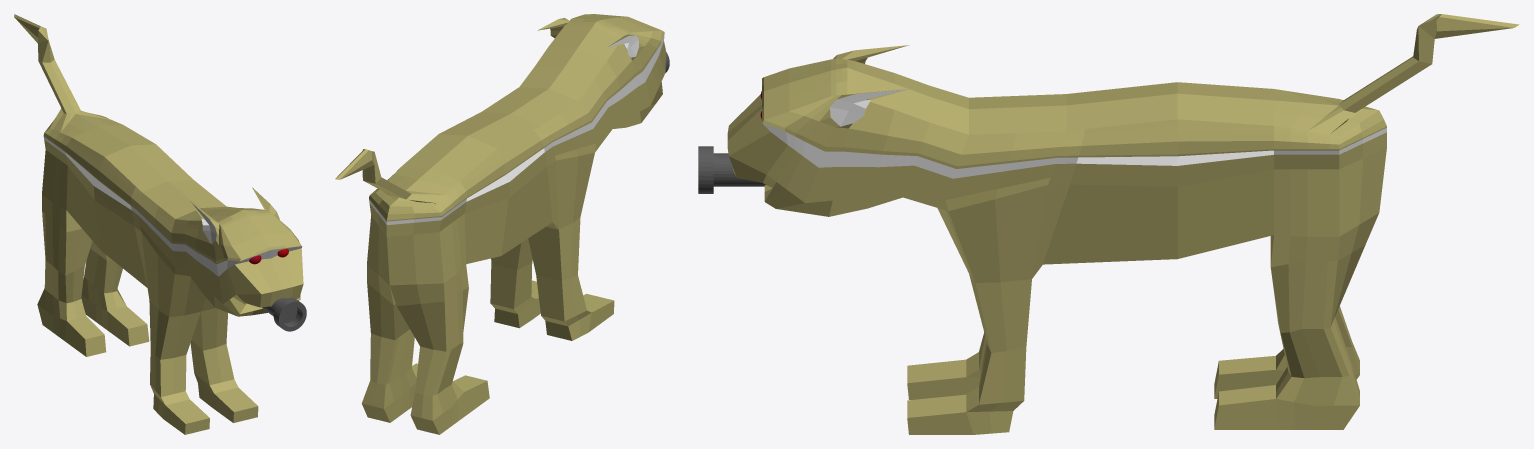
The model's file is Range Monkey.fbx.
3 views of the same model, side by side, from view 1: azimuth 30°, elevation 25°; view 2: azimuth 150°, elevation 25°; view 3: azimuth 270°, elevation 25° (orthographic). The views are drawn at different scales.
Parts seen in each view (by area): view 1: Cube, Circle; view 2: Cube; view 3: Cube, Circle.
Part boxes in pixels (bbox=[...]): Cube: bbox=[14, 14, 303, 434]; Circle: bbox=[262, 297, 306, 331]; Cube: bbox=[335, 14, 665, 434]; Cube: bbox=[727, 14, 1519, 434]; Circle: bbox=[698, 146, 765, 193].
Bounding box in the file's own units: 150 × 522 × 984.
